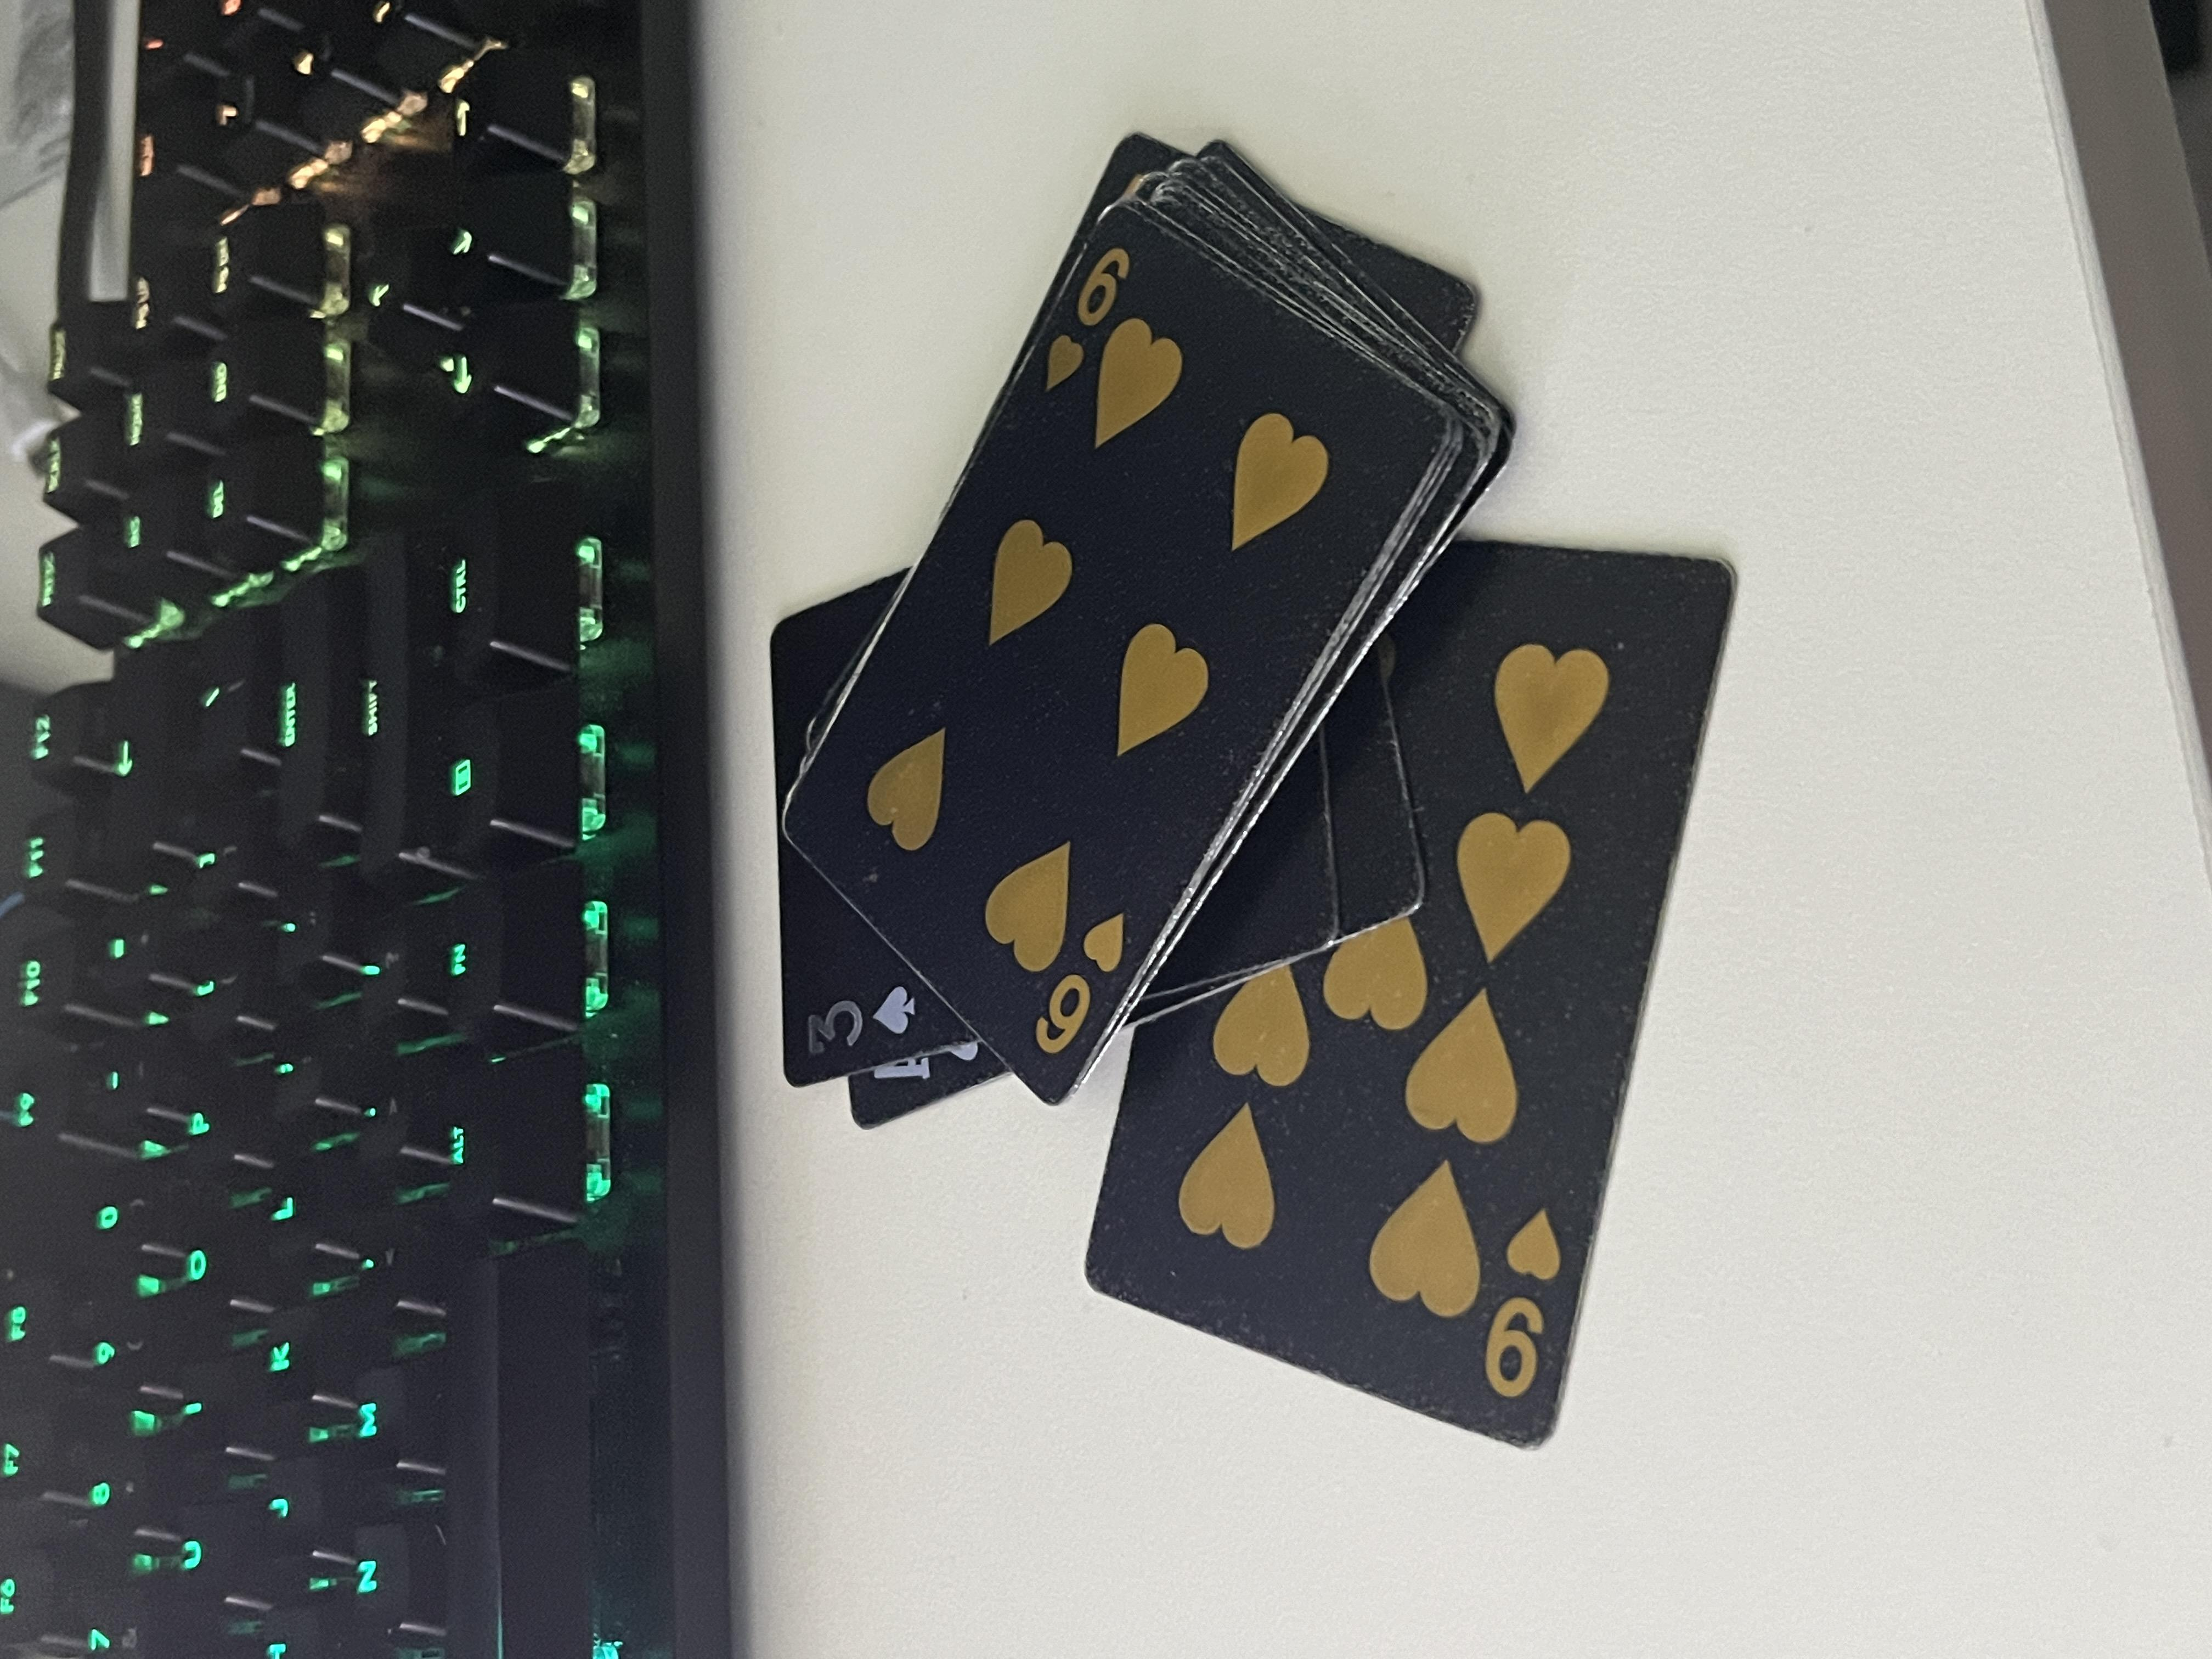3S: (754, 591, 925, 688)
6H: (768, 756, 1028, 856), (1679, 755, 1892, 847)
9H: (329, 1107, 618, 1195)
